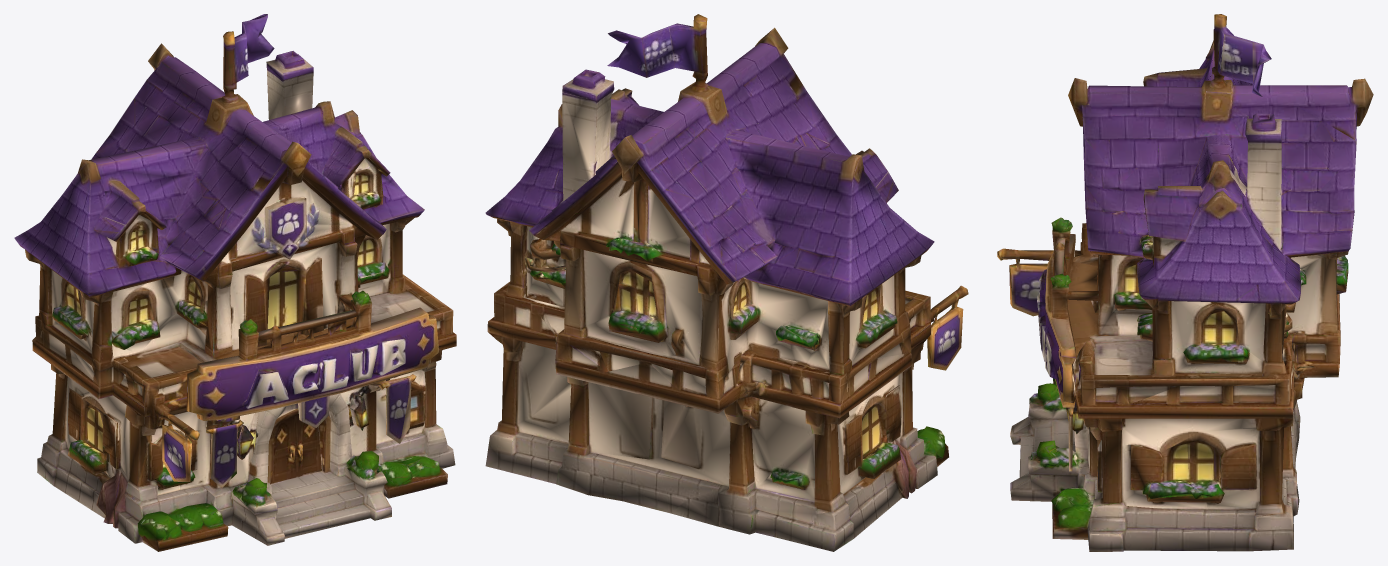
Rendered from project-aclub.glb.
3 views of the same model, side by side, from view 1: azimuth 30°, elevation 25°; view 2: azimuth 150°, elevation 25°; view 3: azimuth 270°, elevation 25° (orthographic). The views are drawn at different scales.
Visible parts, largest first — view 1: Mesh1.0; view 2: Mesh1.0; view 3: Mesh1.0.
Boxes of the visible parts, x1,y1,x2,y2 form: Mesh1.0: (14,14,456,551); Mesh1.0: (485,14,968,551); Mesh1.0: (997,14,1373,551).
Size of the model in its own units: 1.6 by 1.9 by 1.43.
1 material, 1 textured.
